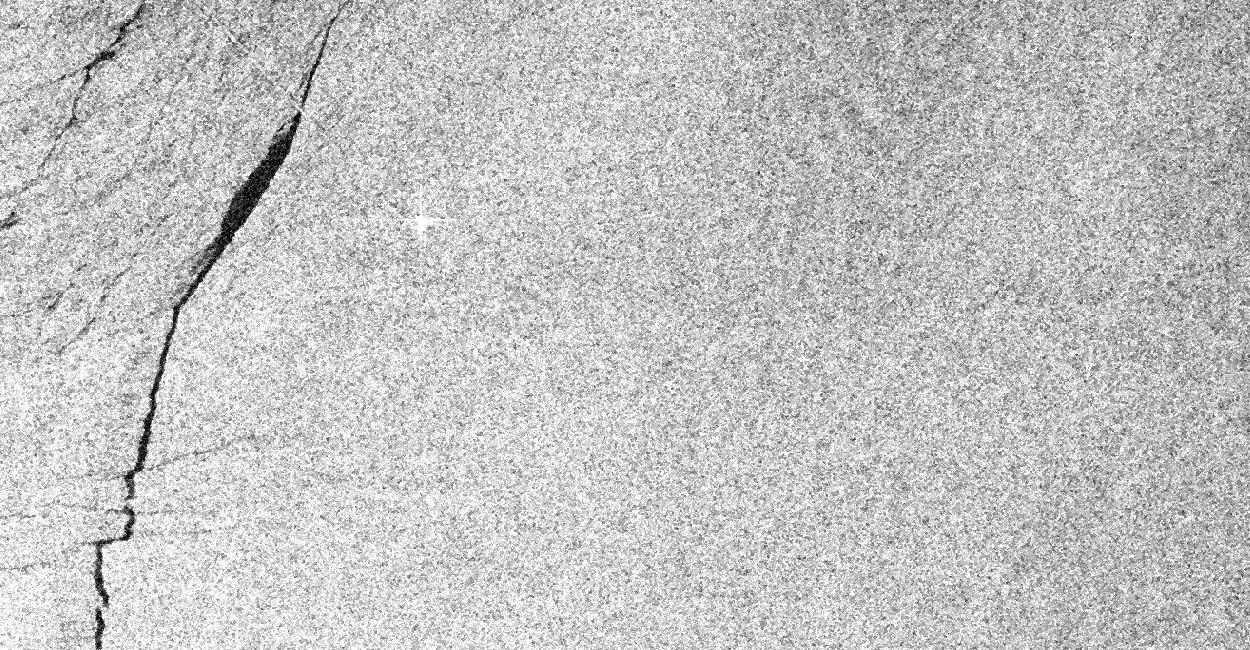Look-alike: (0, 2, 144, 340)
Oil Spill: (122, 16, 336, 502), (91, 536, 116, 608), (116, 502, 136, 542), (94, 612, 106, 650), (284, 124, 289, 130), (198, 266, 202, 271), (278, 130, 281, 132)
